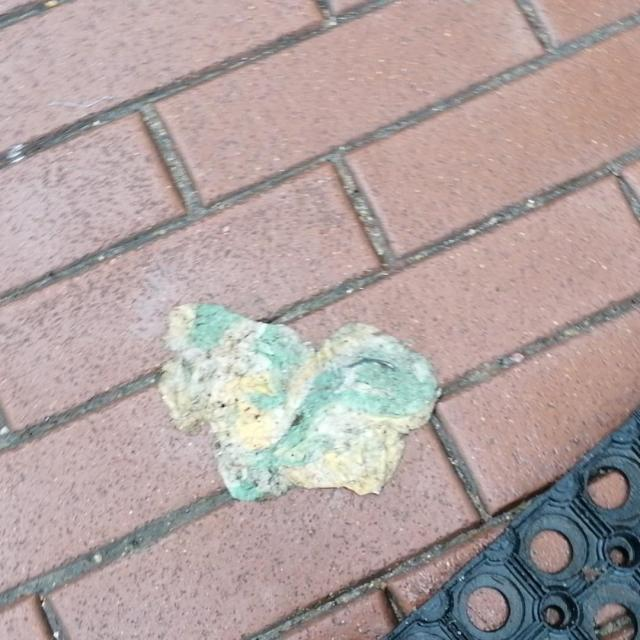Paper: (158, 302, 442, 504)
